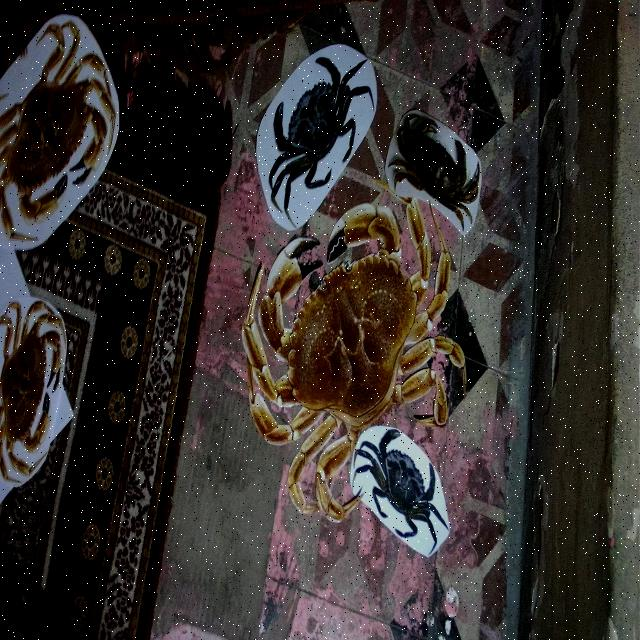European_Green_Crab: (247, 13, 384, 244), (347, 399, 460, 574)
